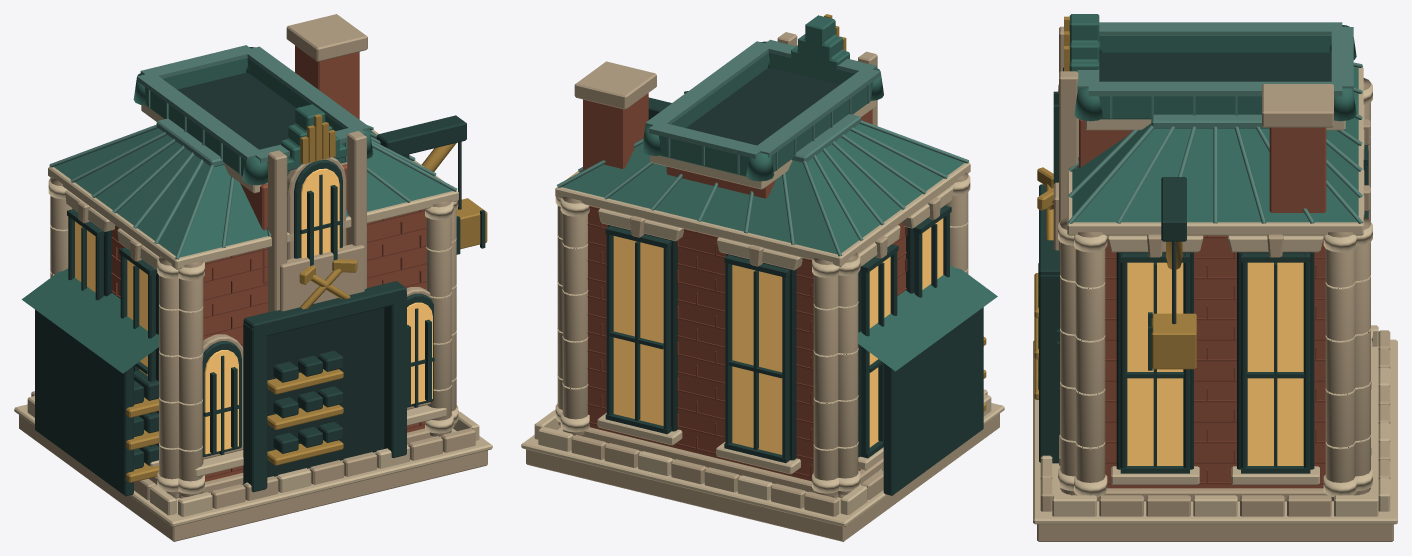
The picture shows the model from 3 angles, left to right: view 1: azimuth 30°, elevation 25°; view 2: azimuth 150°, elevation 25°; view 3: azimuth 270°, elevation 25°; orthographic projection. The views are drawn at different scales.
Visible parts, largest first — view 1: expansion_builders_guild_geometry, expansion_crane_load_geometry; view 2: expansion_builders_guild_geometry; view 3: expansion_builders_guild_geometry, expansion_crane_load_geometry.
Boxes of the visible parts, x1,y1,x2,y2 form: expansion_builders_guild_geometry: (14, 14, 492, 541); expansion_crane_load_geometry: (456, 141, 487, 254); expansion_builders_guild_geometry: (521, 14, 1004, 541); expansion_builders_guild_geometry: (1033, 14, 1397, 541); expansion_crane_load_geometry: (1148, 241, 1196, 370).
Bounding box in the file's own units: 1.04 × 0.9701 × 0.7358.
